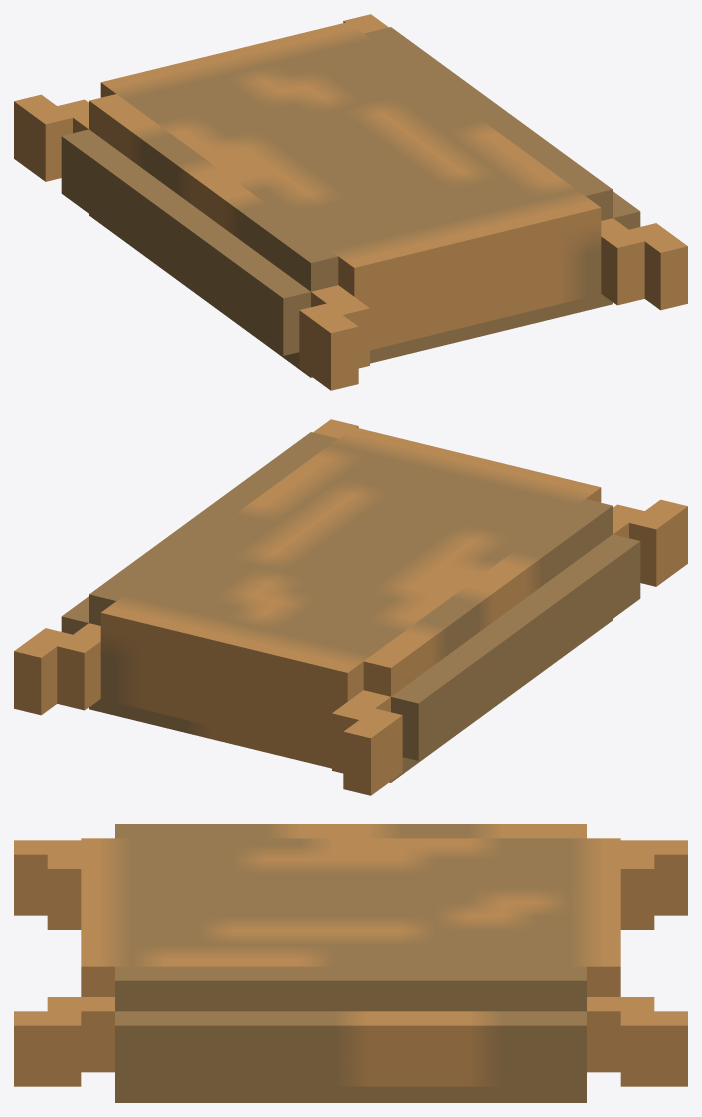
File: Food_Sack_00.fbx
3 renders of one model, top to bottom at view 1: azimuth 30°, elevation 25°; view 2: azimuth 150°, elevation 25°; view 3: azimuth 270°, elevation 25°, orthographic. The views are drawn at different scales.
Parts seen in each view (by area): view 1: Food_Sack_00; view 2: Food_Sack_00; view 3: Food_Sack_00.
Boxes of the visible parts, x1,y1,x2,y2 form: Food_Sack_00: (14, 14, 687, 390); Food_Sack_00: (14, 419, 687, 795); Food_Sack_00: (14, 824, 687, 1102).
Bounding box in the file's own units: 65 × 20 × 100.
